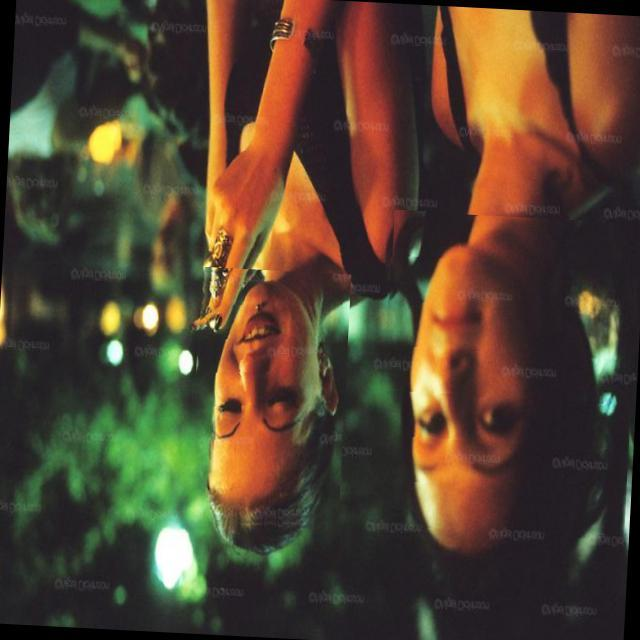cigarette: (175, 301, 228, 348)
